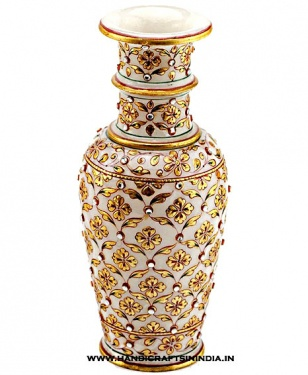flowerpot: (77, 5, 230, 371)
